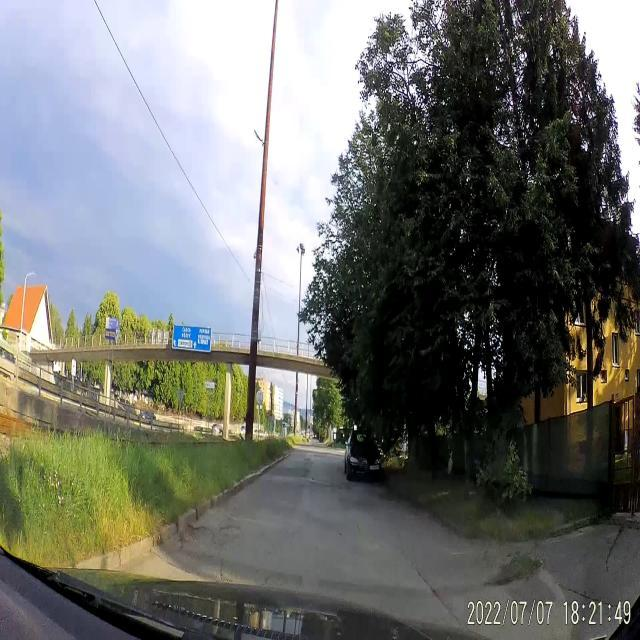Pothole: (179, 516, 212, 552), (219, 523, 243, 542)
